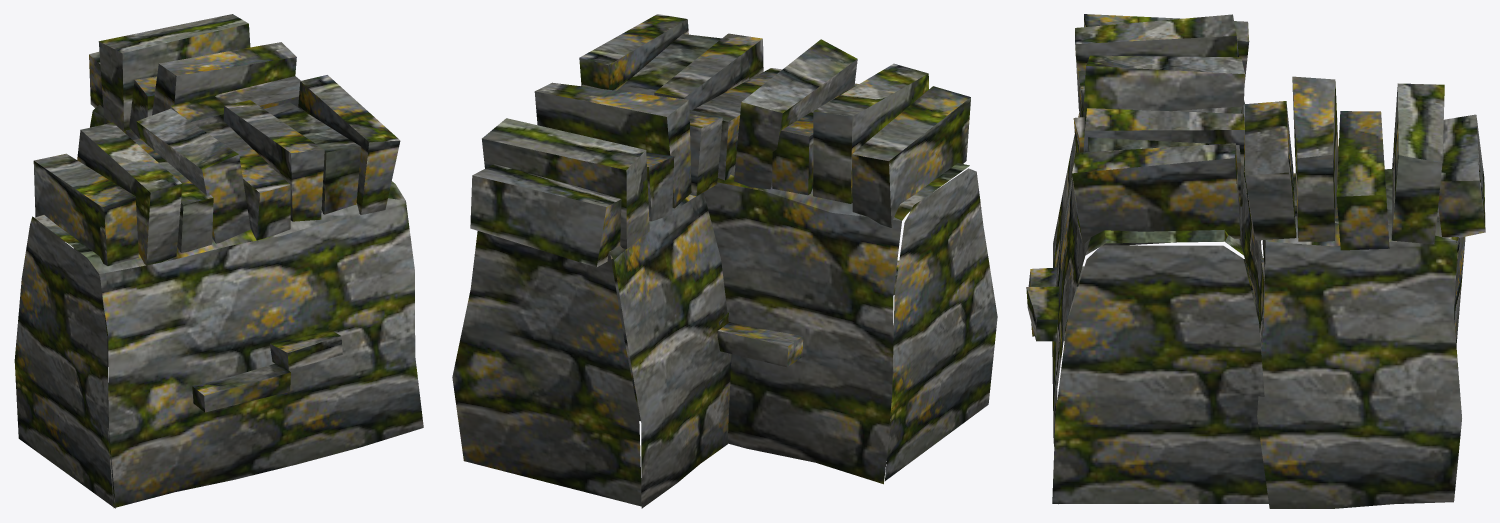
The model's file is wall_drystone_corner.glb.
3 views of the same model, side by side, from view 1: azimuth 30°, elevation 25°; view 2: azimuth 150°, elevation 25°; view 3: azimuth 270°, elevation 25° (orthographic). The views are drawn at different scales.
Visible parts, largest first — view 1: wall_drystone_corner; view 2: wall_drystone_corner; view 3: wall_drystone_corner.
Boxes of the visible parts, x1,y1,x2,y2 form: wall_drystone_corner: [14, 14, 423, 508]; wall_drystone_corner: [452, 14, 997, 508]; wall_drystone_corner: [1026, 14, 1485, 508].
Size of the model in its own units: 1.41 by 1.33 by 1.56.
1 material, 1 textured.
